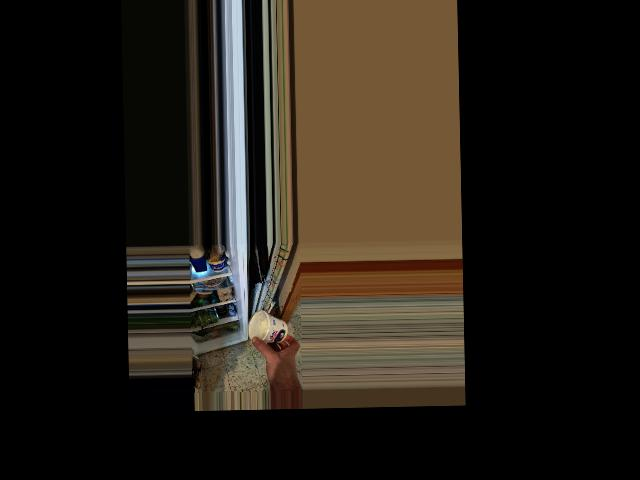cotage: (256, 312, 287, 348)
